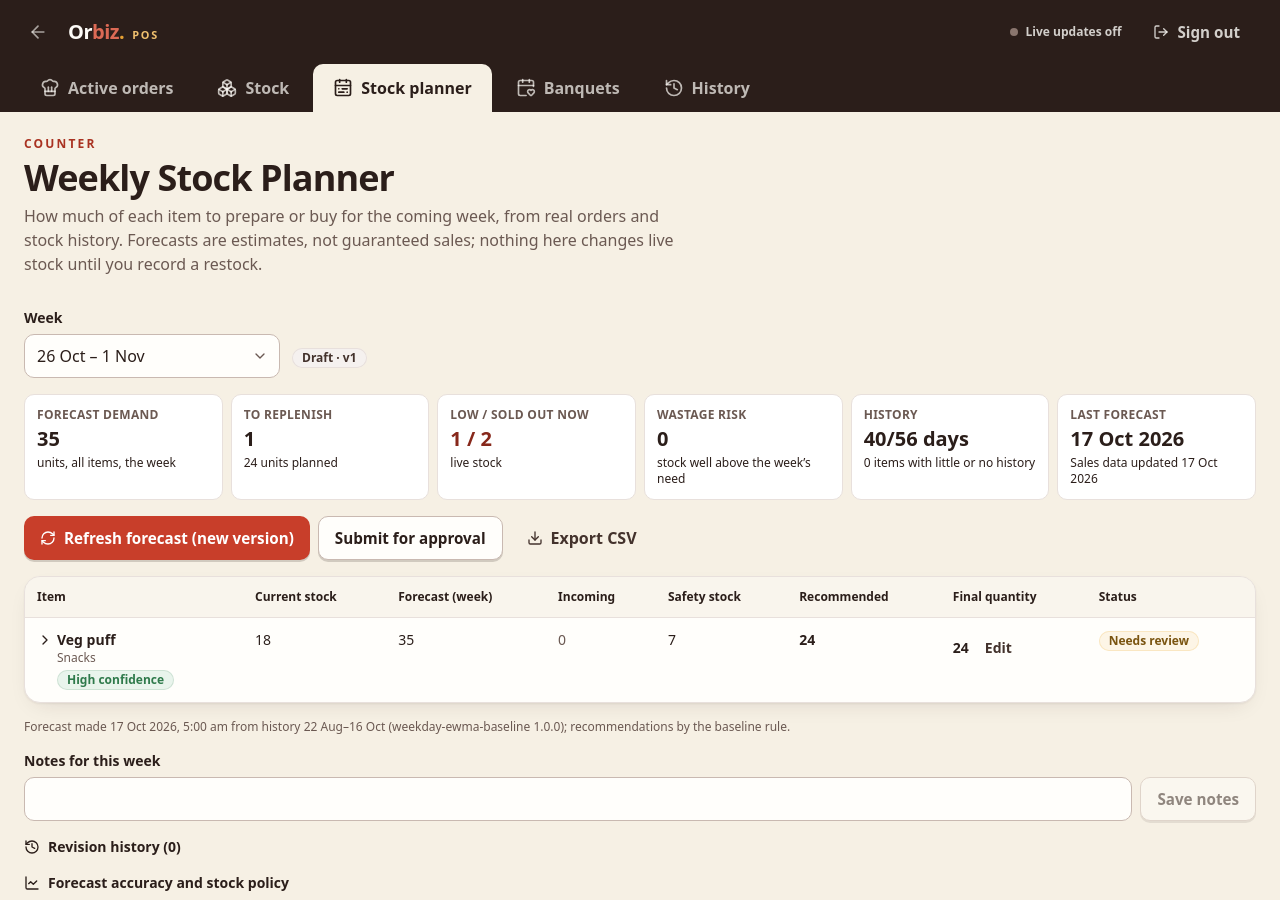
Scenario: Weekly Stock Planner › shows each item’s numbers and explains the recommendation, including sold-out days
The width and height of the screenshot is (1280, 900).
Expected: the text "18" is shown, [243,618,386,702]
Expected: the text "35" is shown, [386,618,546,702]
Click the button "Veg puff Snacks". click: (76, 648)
box: [37,630,116,666]
(page scrolled)
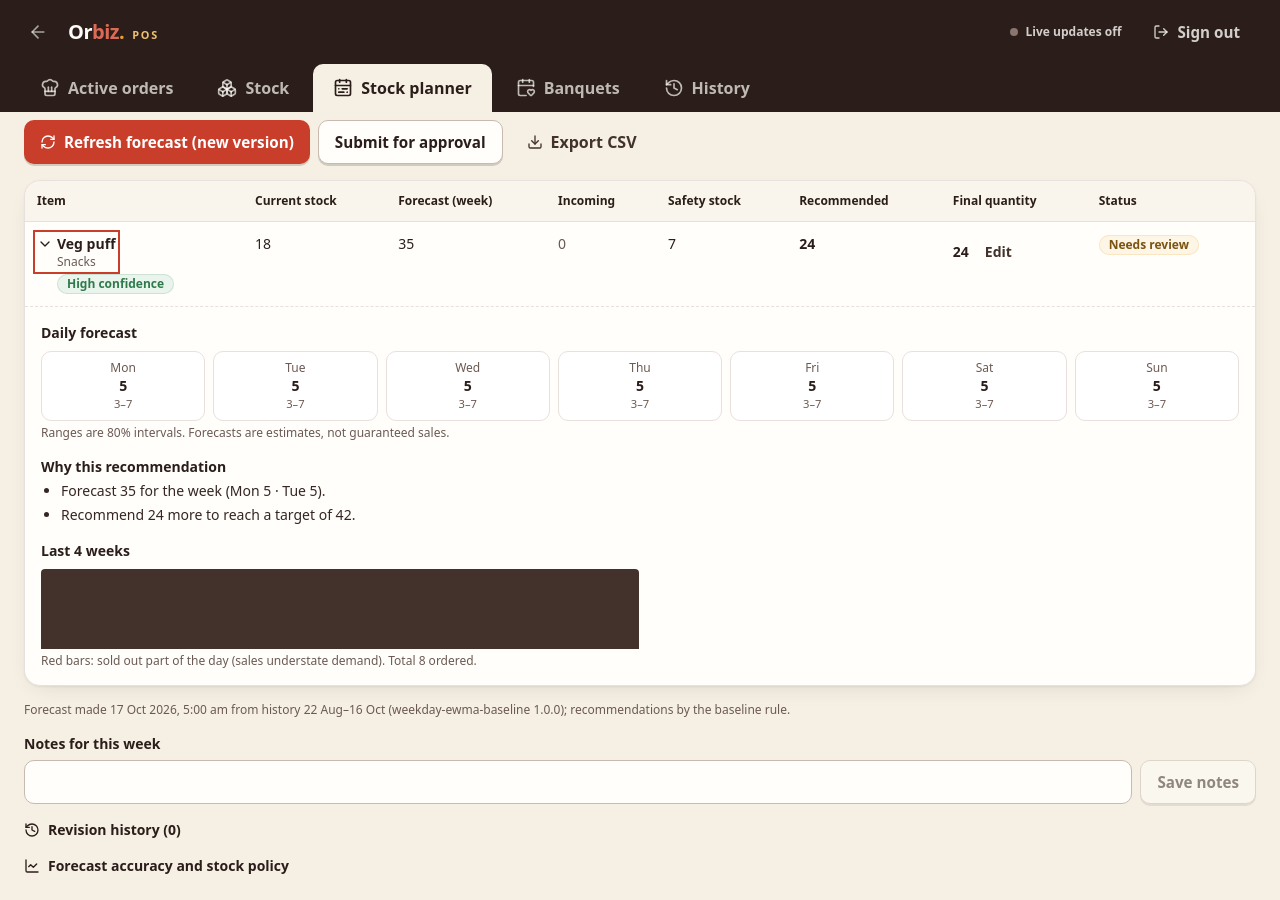
Expected: the list item "Recommend 24 more to reach a target of 42." is shown, [61,505,355,524]
Expected: the picture named "Daily demand for Veg puff" is shown, [41,569,639,649]
Expected: the text "sold out part of the day" is shown, [41,652,416,669]
